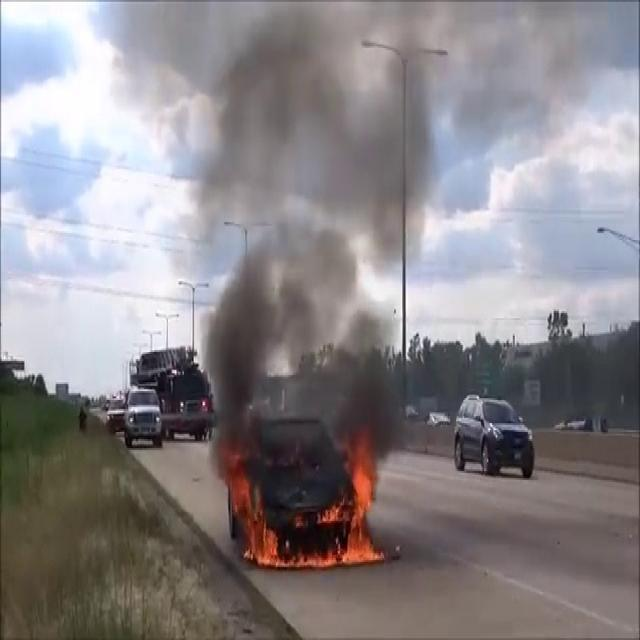Fire: (323, 438, 392, 562), (223, 444, 280, 564)
Smoke: (195, 2, 444, 444)
